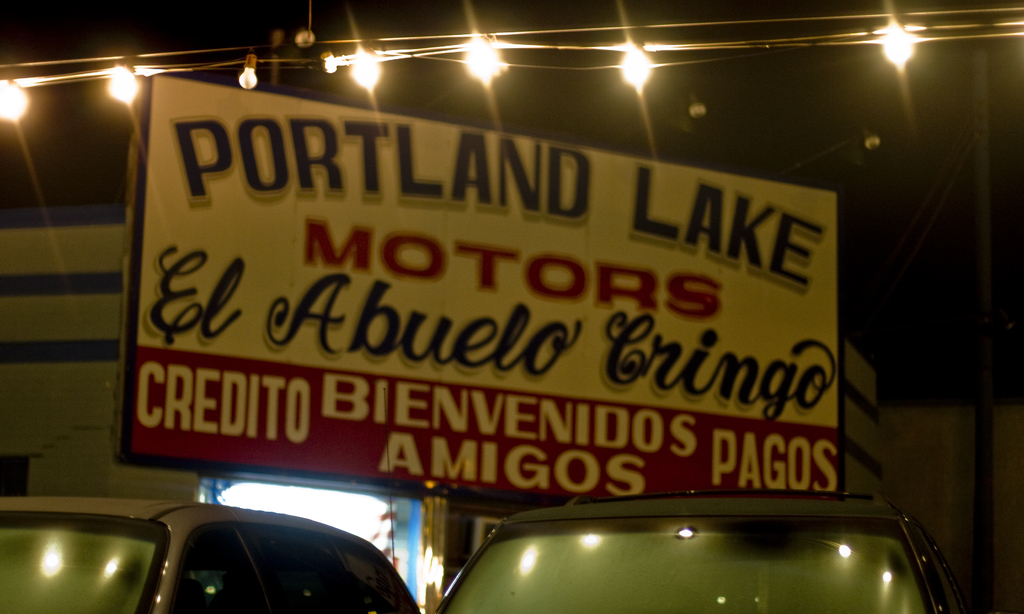Car: (406, 478, 965, 609), (0, 495, 419, 613)
